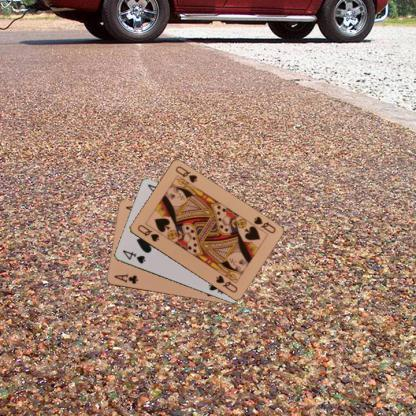4s: (119, 247, 146, 265)
Ac: (112, 272, 140, 286)
Qs: (135, 222, 160, 243), (251, 214, 277, 234)
